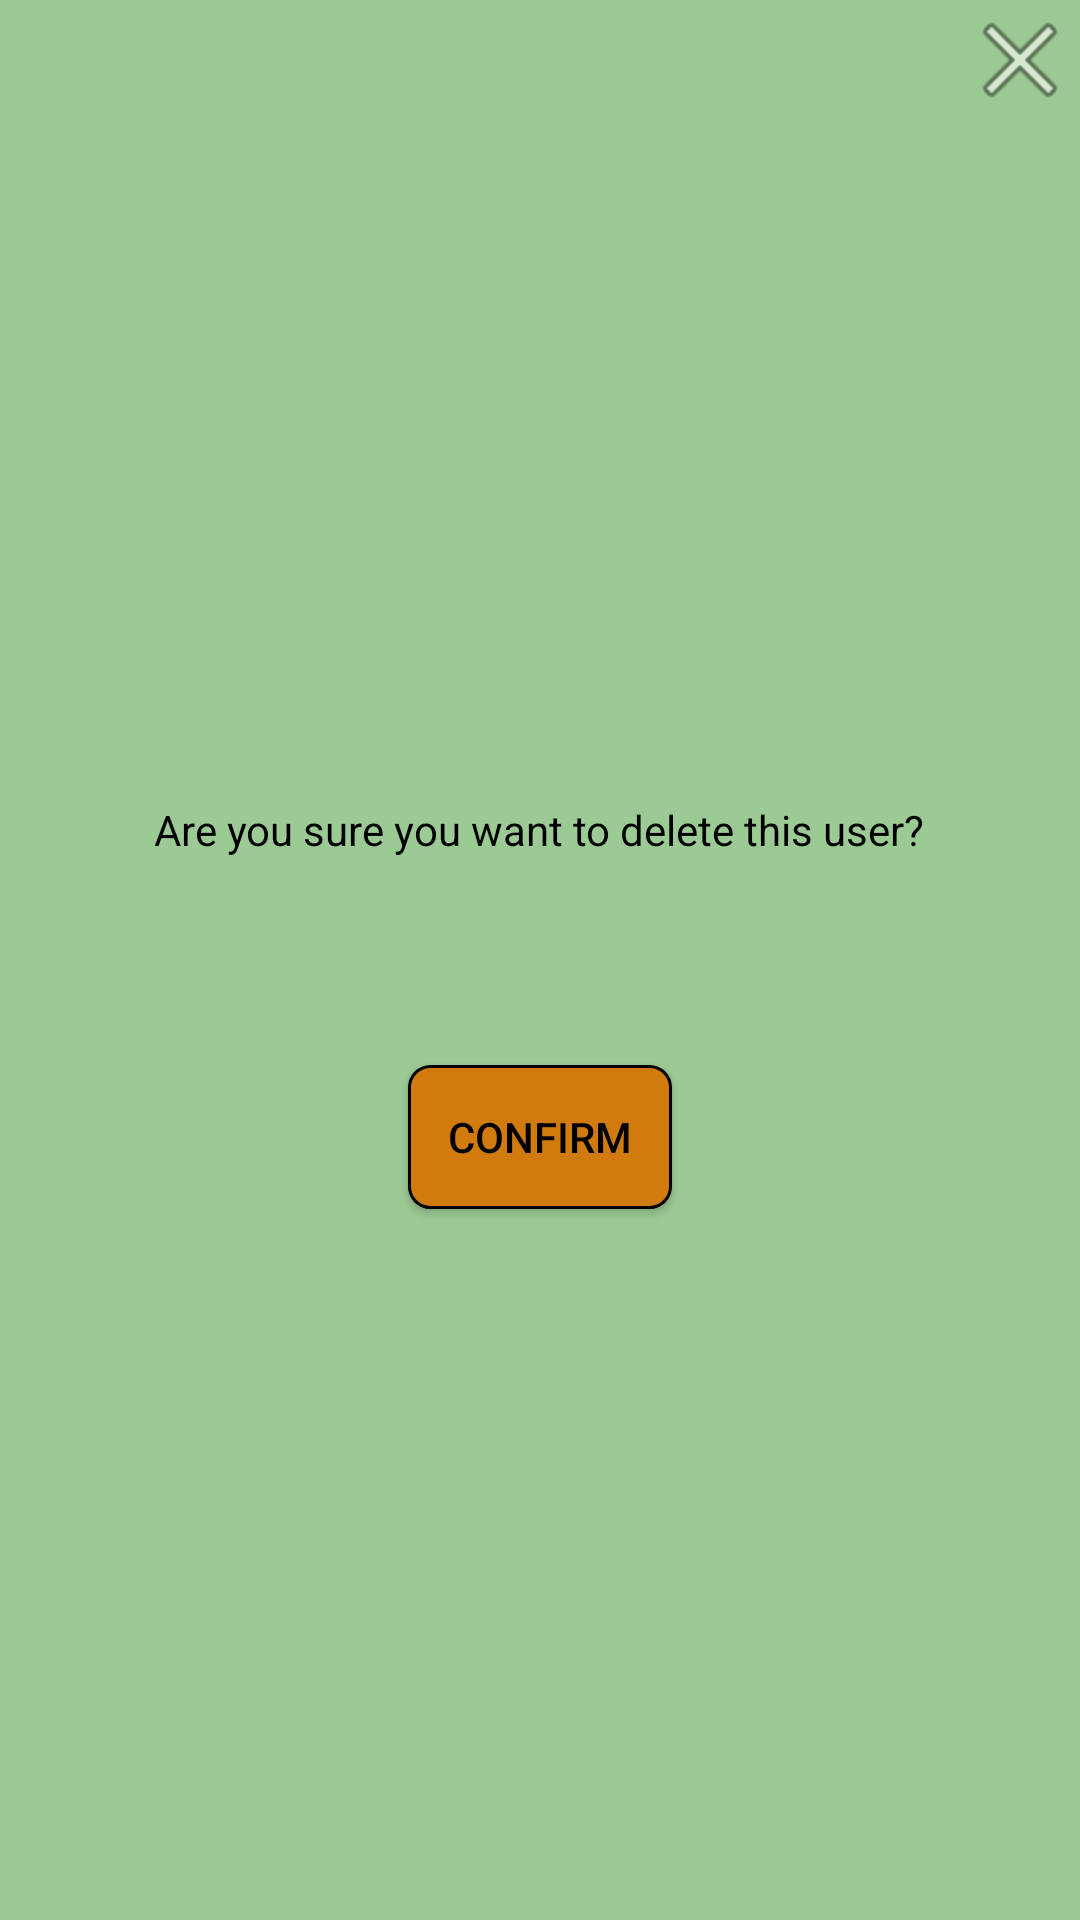

Where to tap for icons on this 1080px x 1920px app screen, as (x,y):
close clear cancel: (1020,60)
